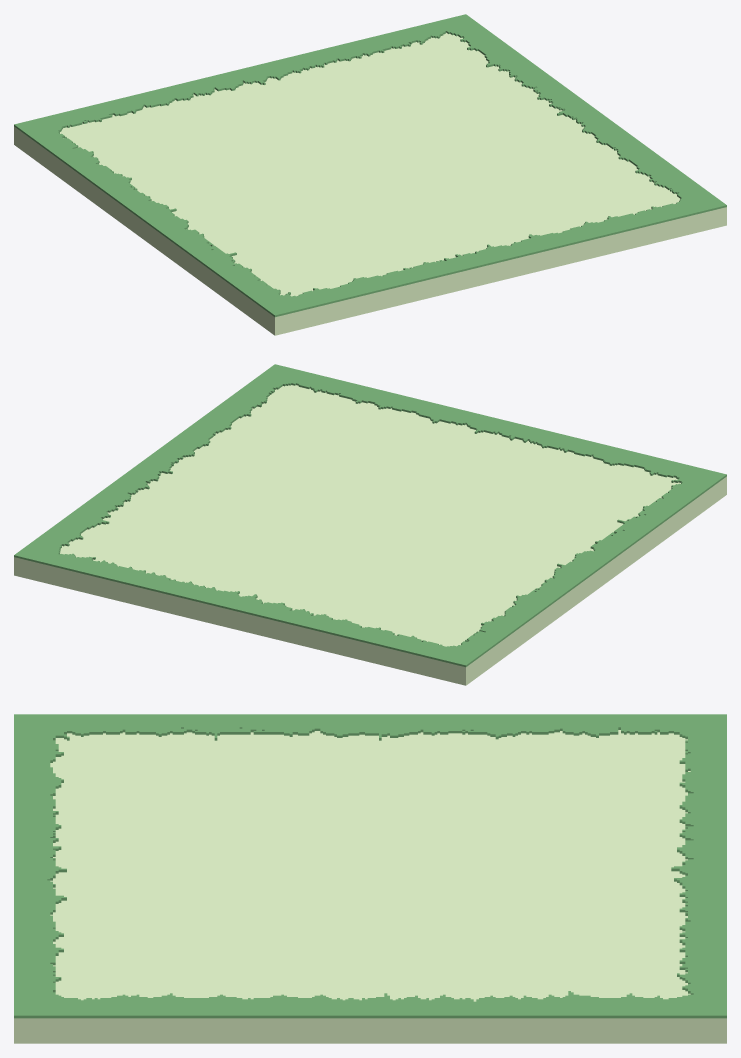
Rendered from Ground.obj.
3 views of the same model, one above another, from view 1: azimuth 30°, elevation 25°; view 2: azimuth 150°, elevation 25°; view 3: azimuth 270°, elevation 25° (orthographic). The views are drawn at different scales.
Size of the model in its own units: 25.6 by 1.1 by 25.6.
1 material, 1 textured.
